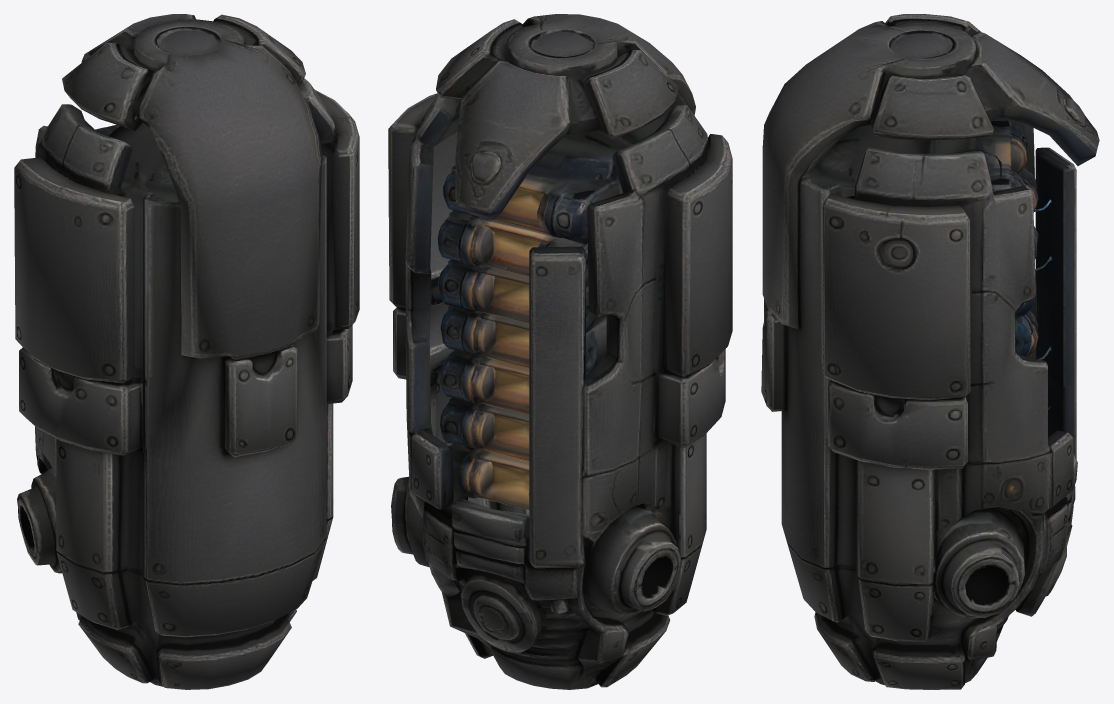
The model's file is bastion-pillar.glb.
3 renders of one model, left to right at view 1: azimuth 30°, elevation 25°; view 2: azimuth 150°, elevation 25°; view 3: azimuth 270°, elevation 25°, orthographic.
Parts seen in each view (by area): view 1: tripo_node_8d66128b-e795-407b-bdf5-daa63be3a267; view 2: tripo_node_8d66128b-e795-407b-bdf5-daa63be3a267; view 3: tripo_node_8d66128b-e795-407b-bdf5-daa63be3a267.
Boxes of the visible parts, left/top/right/bottom form: tripo_node_8d66128b-e795-407b-bdf5-daa63be3a267: left=14, top=14, right=359, bottom=689; tripo_node_8d66128b-e795-407b-bdf5-daa63be3a267: left=388, top=14, right=732, bottom=689; tripo_node_8d66128b-e795-407b-bdf5-daa63be3a267: left=761, top=14, right=1099, bottom=689.
Size of the model in its own units: 0.5176 by 0.998 by 0.4863.
1 material, 1 textured.
